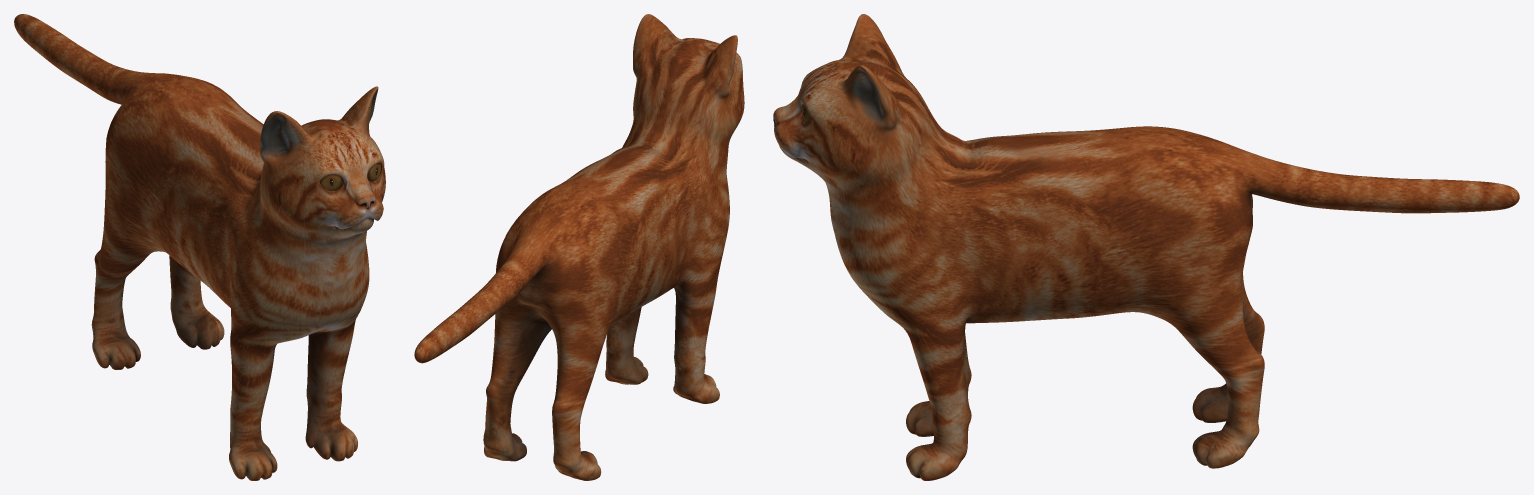
The picture shows the model from 3 angles, left to right: view 1: azimuth 30°, elevation 25°; view 2: azimuth 150°, elevation 25°; view 3: azimuth 270°, elevation 25°; orthographic projection. The views are drawn at different scales.
Visible parts, largest first — view 1: Node1; view 2: Node1; view 3: Node1.
Boxes of the visible parts, x1,y1,x2,y2 form: Node1: (14, 14, 385, 480); Node1: (414, 14, 744, 480); Node1: (773, 14, 1519, 480).
Bounding box in the file's own units: 5.02 × 14.97 × 24.53.
Materials: 1 (1 with a texture image).
